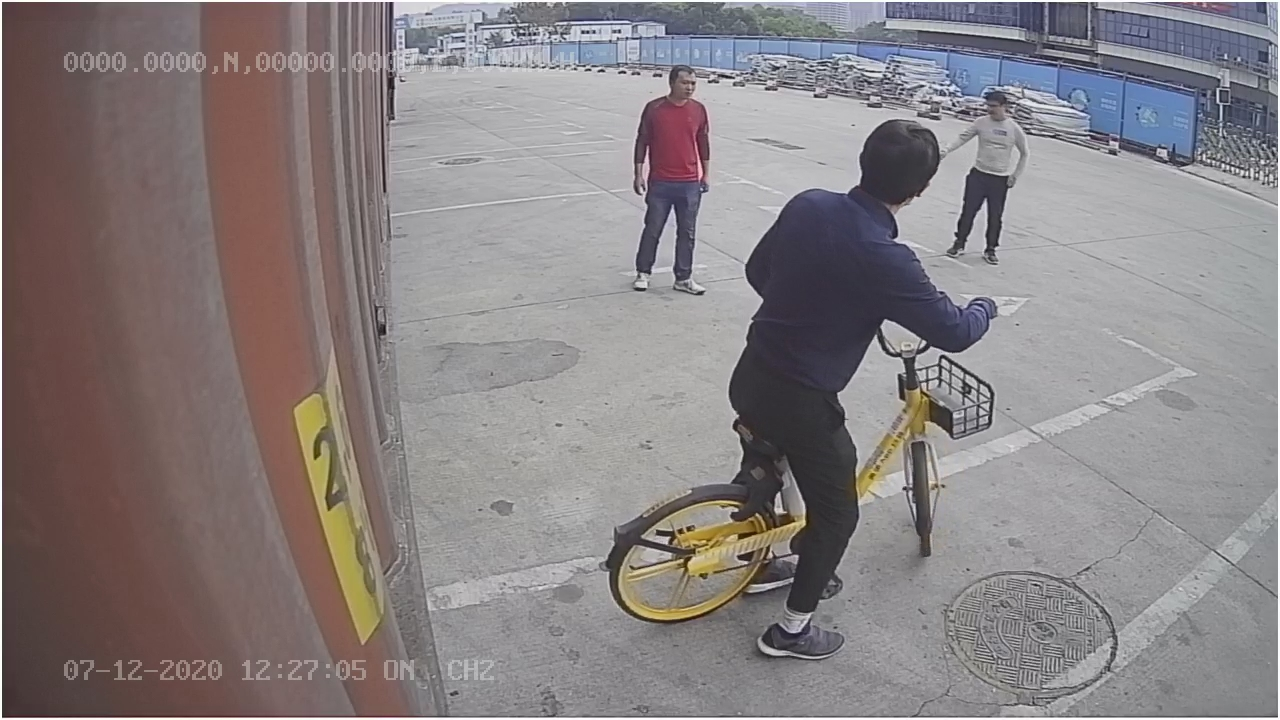person: (627, 62, 718, 299)
